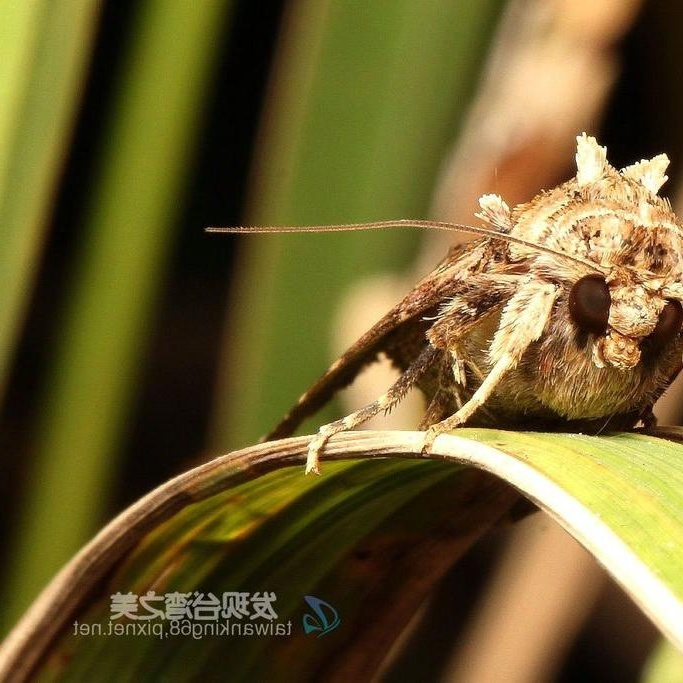Spodoptera litura: (204, 132, 682, 476)
